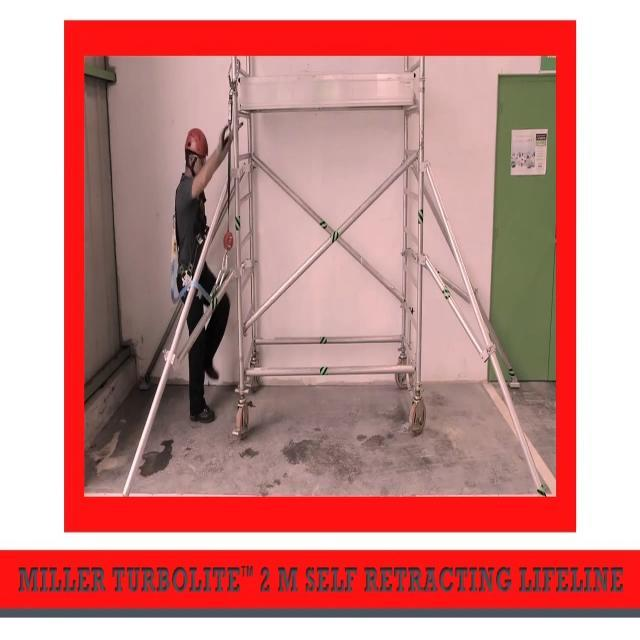belt: (170, 162, 212, 314)
